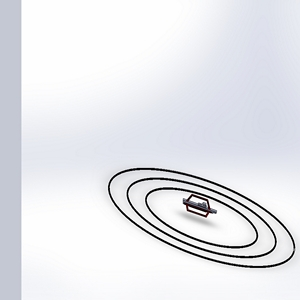circle: (103, 159, 298, 273)
submarine: (177, 192, 225, 226)
